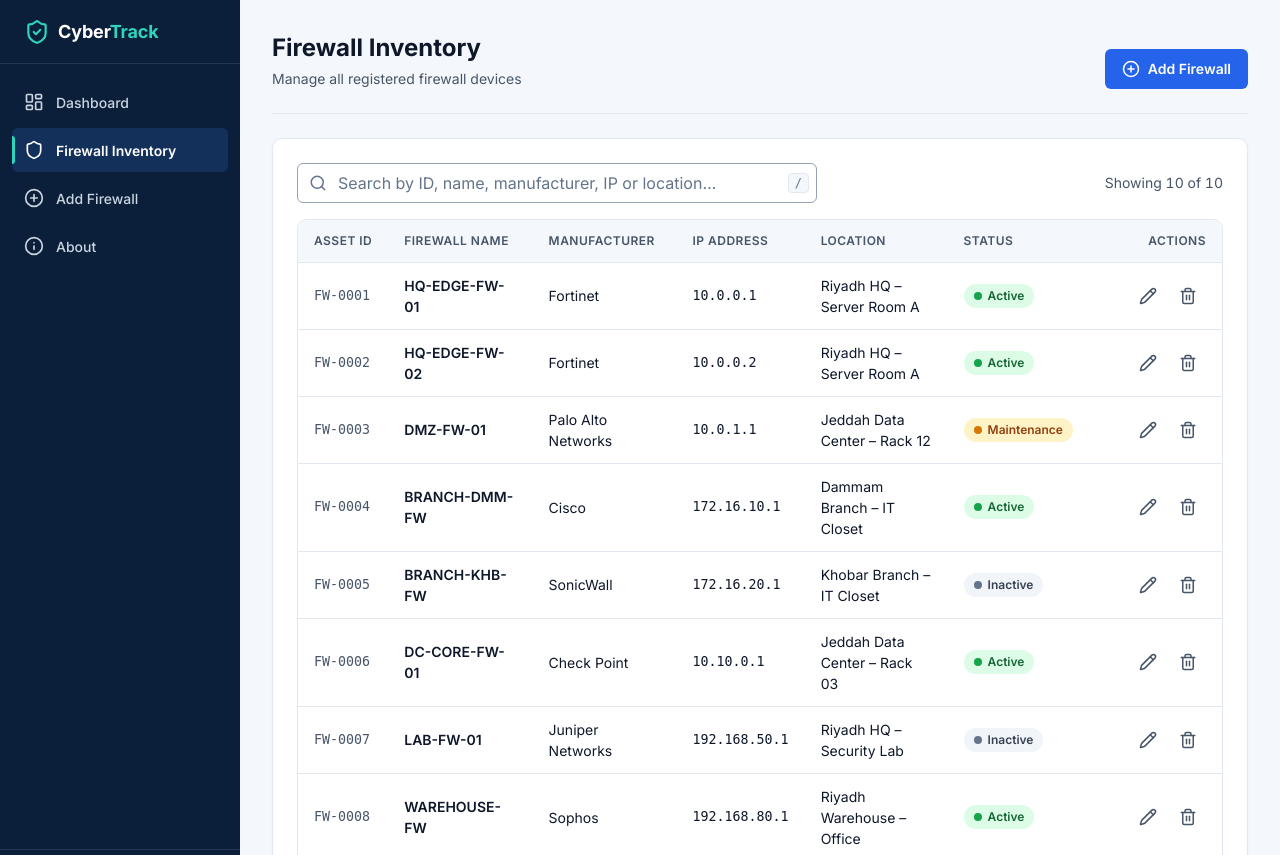
Scenario: Edit Firewall › opens from the inventory pre-filled, with a read-only Asset ID
What coordinates should you click on to do the following:
click the link named "Edit HQ-EDGE-FW-01"
I would click on:
 (1148, 296)
Its box is [1139,287,1157,305].
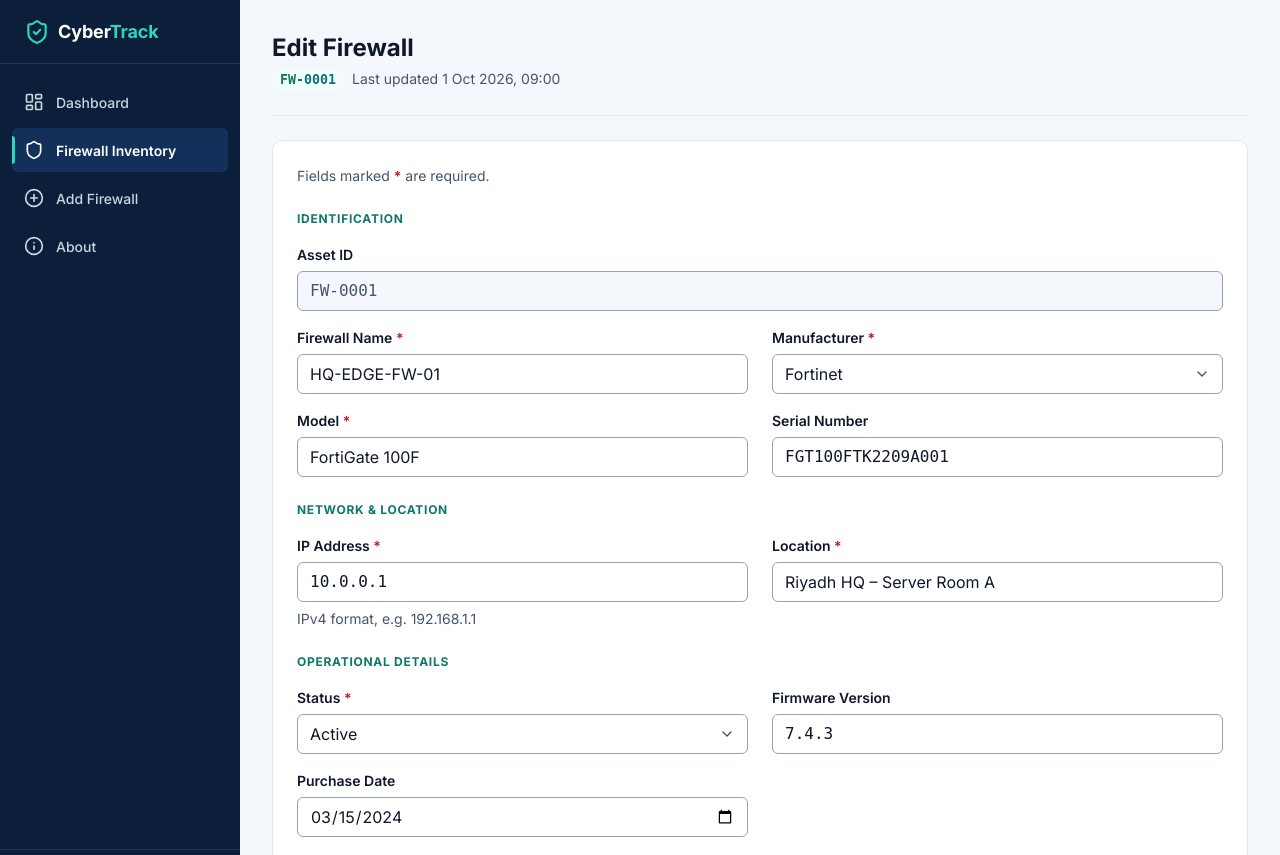
Result: the heading "Edit Firewall" is shown at [272,33,414,62]
Result: the field labelled "Asset ID" holds "FW-0001" at [297,271,1223,311]
Result: the field labelled "Firewall Name *" holds "HQ-EDGE-FW-01" at [297,354,748,394]
